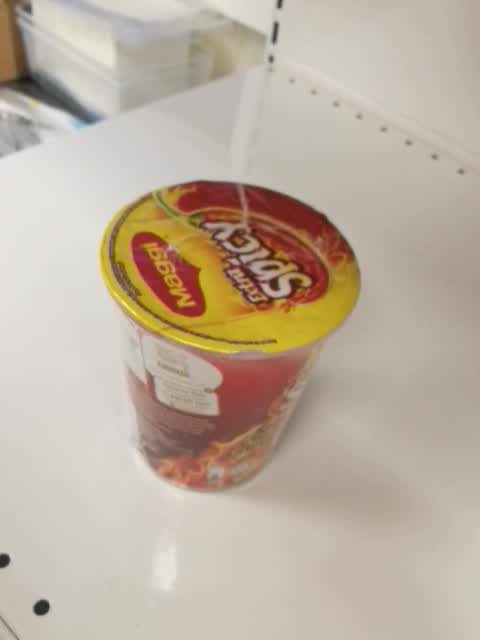maggi: (98, 179, 361, 495)
